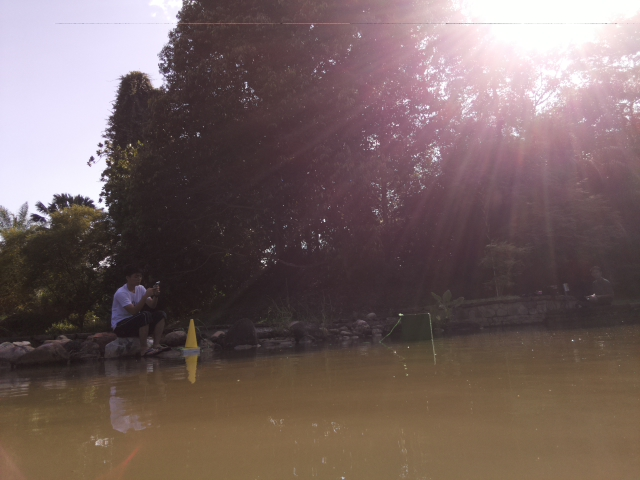checkpoint: (178, 317, 203, 358)
obstacle: (398, 310, 436, 346)
